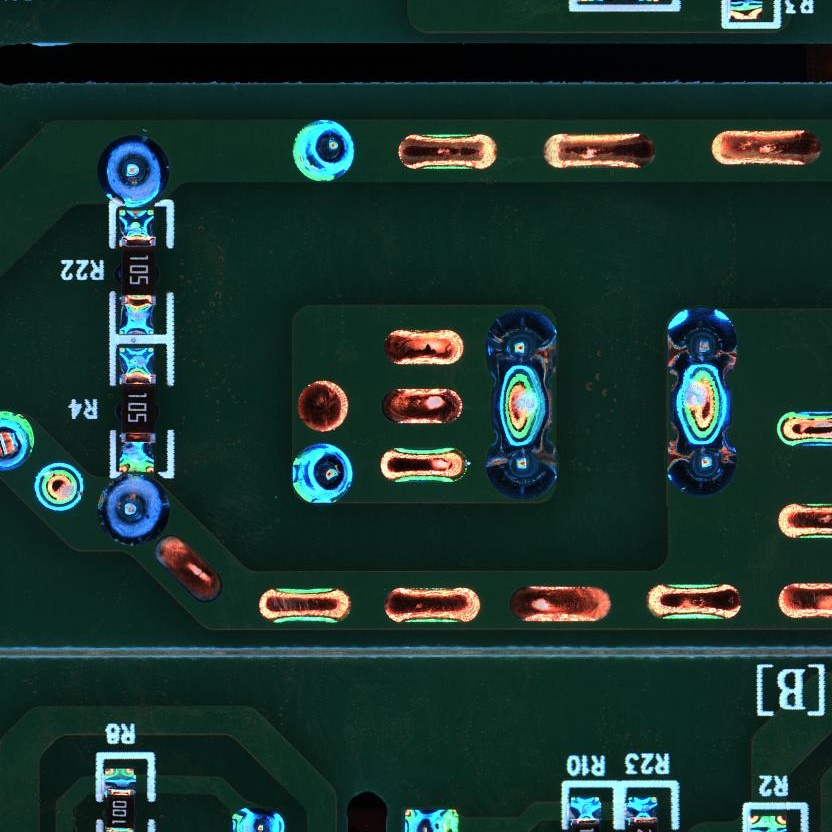spot: (95, 133, 172, 209), (485, 309, 558, 384), (664, 307, 739, 379), (97, 474, 172, 544), (486, 437, 559, 501), (665, 434, 738, 496), (290, 119, 356, 184), (289, 442, 355, 505), (32, 461, 84, 510), (1, 409, 35, 474)
